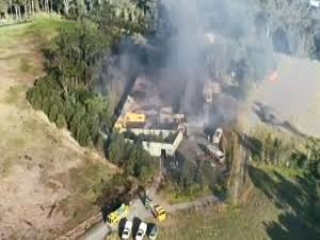fire: (265, 72, 282, 83)
smoke: (143, 6, 209, 107)
